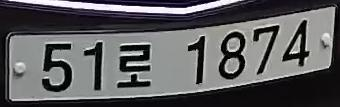1: (81, 38, 110, 94), (183, 32, 211, 87)
4: (283, 17, 312, 68)
5: (37, 39, 77, 93)
7: (249, 22, 282, 74)
8: (216, 29, 250, 80)
로: (114, 40, 158, 90)
